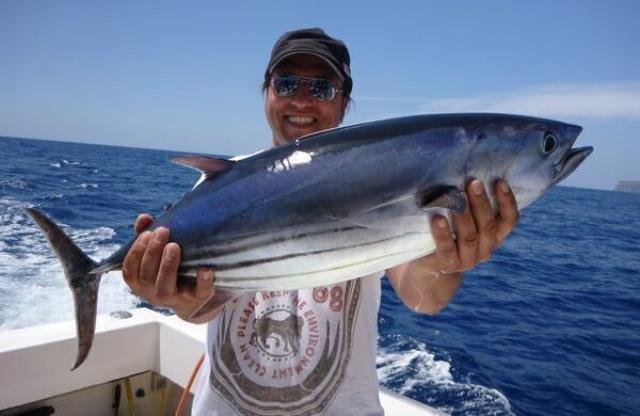Mulut: (524, 110, 608, 204)
Sirip Anal: (178, 272, 254, 342)
Sirip Dada: (408, 178, 484, 236)
Sirip Ekor: (17, 198, 123, 380)
Sirip Punggung: (164, 138, 256, 210)
